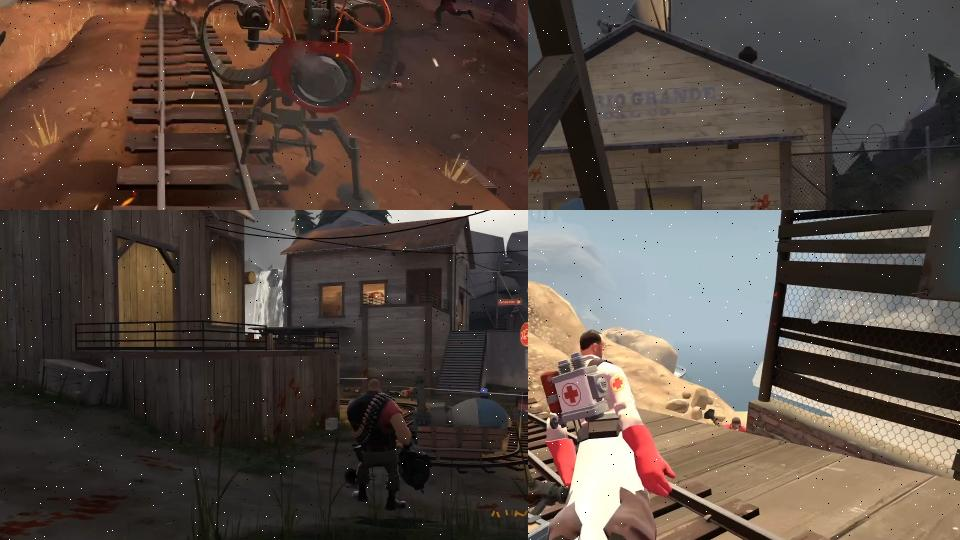Enemy: (533, 327, 677, 540), (347, 379, 433, 511), (413, 0, 474, 25), (704, 409, 747, 432)
